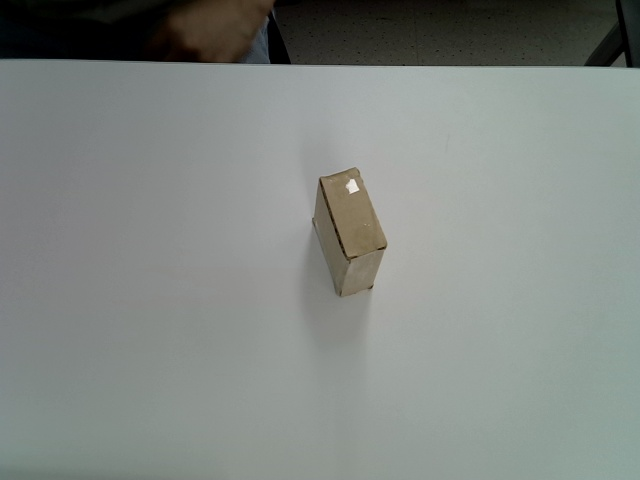normal: (311, 167, 389, 297)
